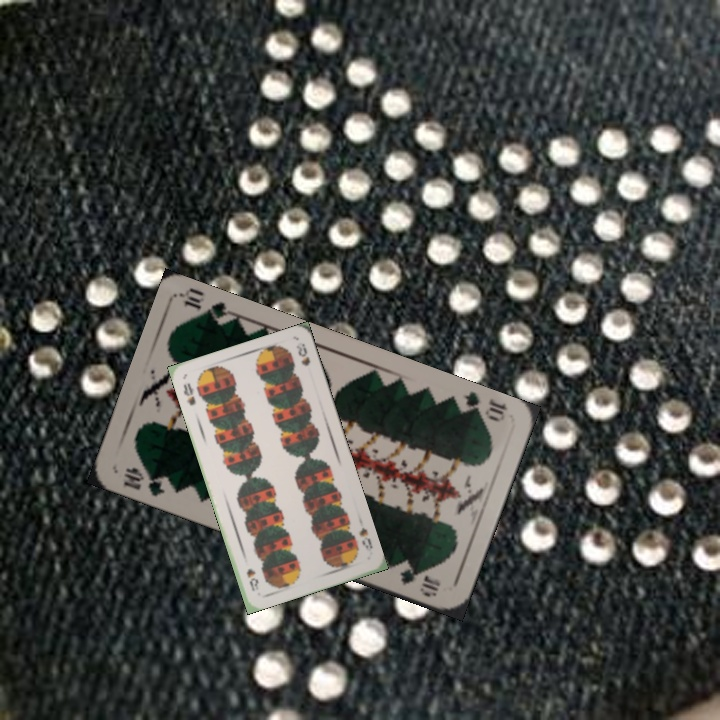G10: (451, 388, 510, 425), (119, 463, 168, 499)
S8: (355, 524, 375, 558), (179, 379, 198, 408)
